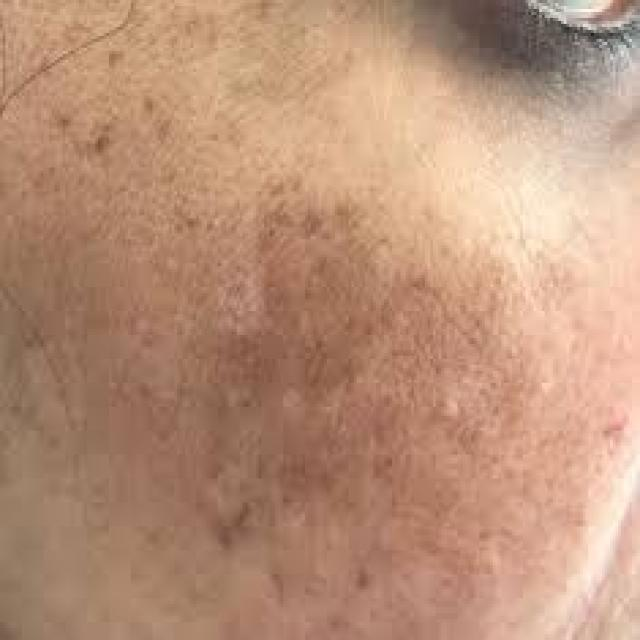pigmentation: (167, 208, 409, 550)
